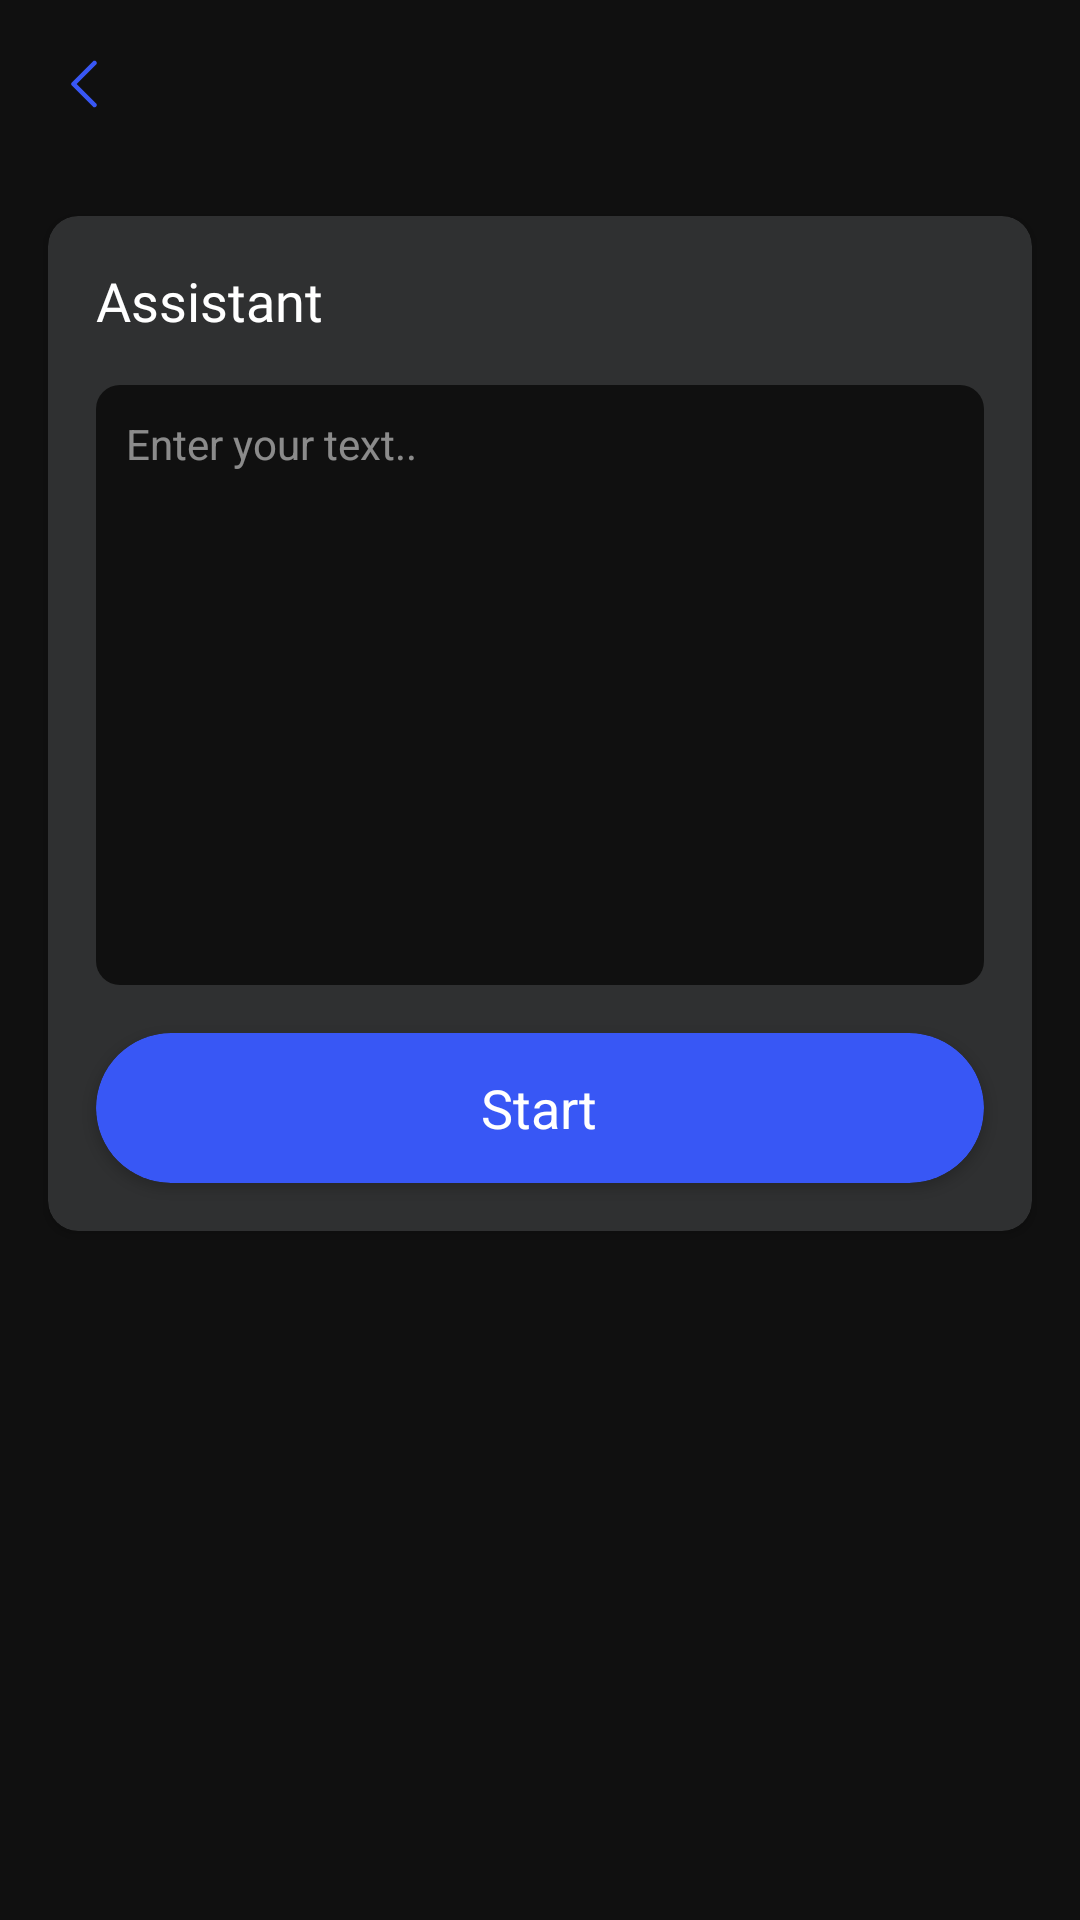

Locate icon controls on the screen. Image size 1080 x 1920, boxes as (x1, y1, x2, y2).
left: (71, 60, 97, 108)
